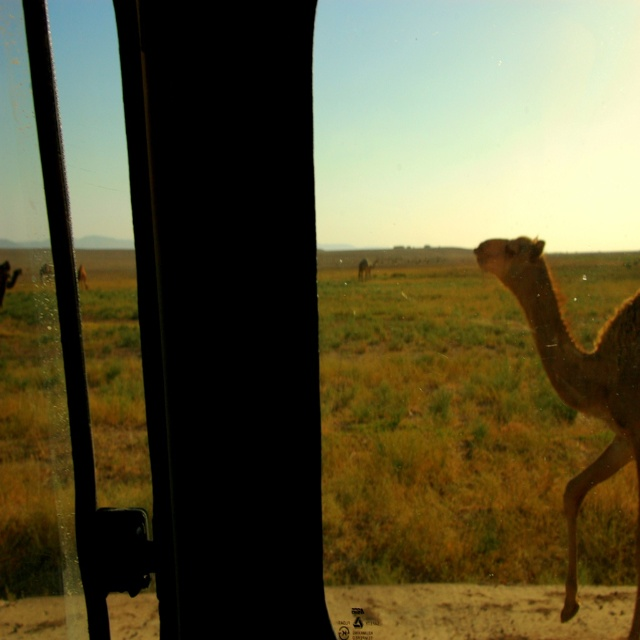Camel: (473, 234, 638, 631)
